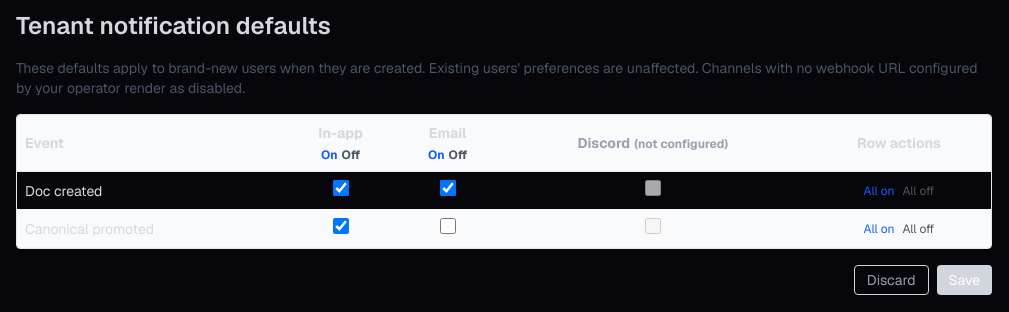
AdminNotificationDefaultsGrid › flips a single cell and marks the grid dirty
Click the checkbox with test id "notif-defaults-cell-kb_canonical_promoted-in_app-toggle" at (341, 226), box [333,218,349,234]
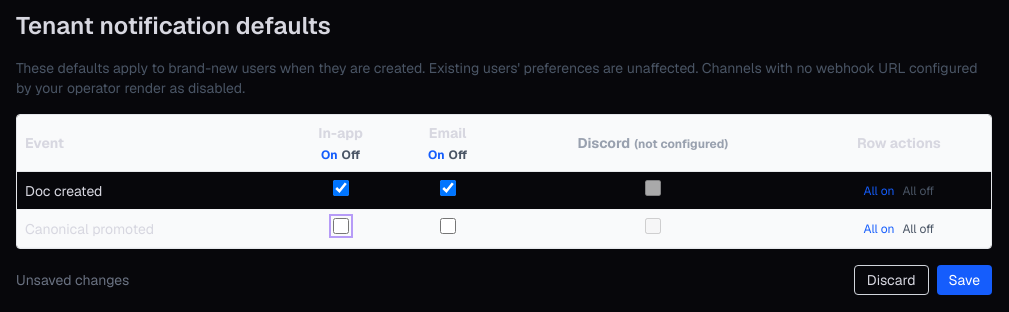
Result: the checkbox with test id "notif-defaults-cell-kb_canonical_promoted-in_app-toggle" is not checked at [333,218,349,234]
Result: the text "Unsaved changes" is shown at [16,271,129,289]
Result: the button with test id "notif-defaults-save" is enabled at [936,265,992,295]
